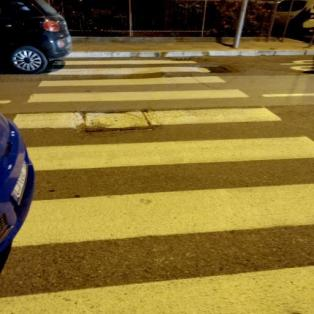Paso de Cebra: (8, 88, 285, 135), (44, 59, 214, 77)
